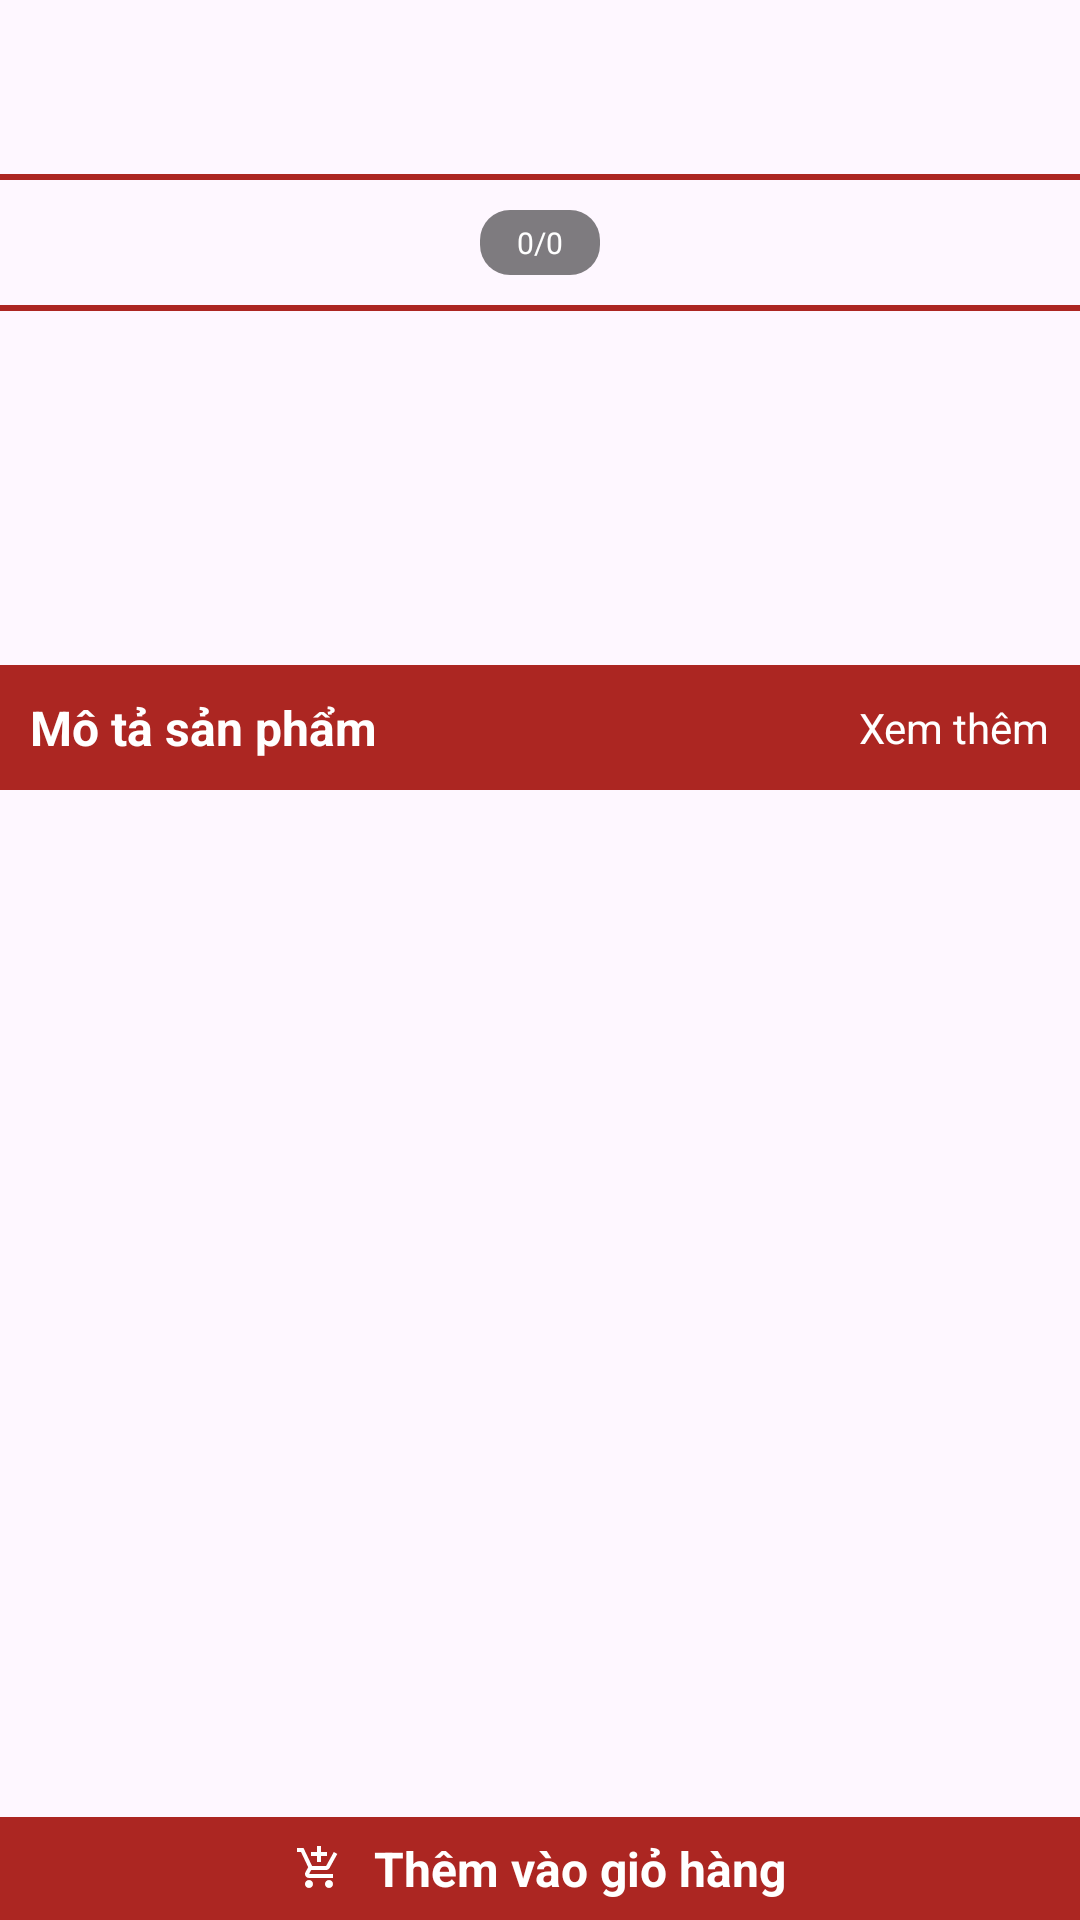

Where to tap for icons on this 1080×1920 app screen, as (x,y):
add shopping cart: (317,1867)
